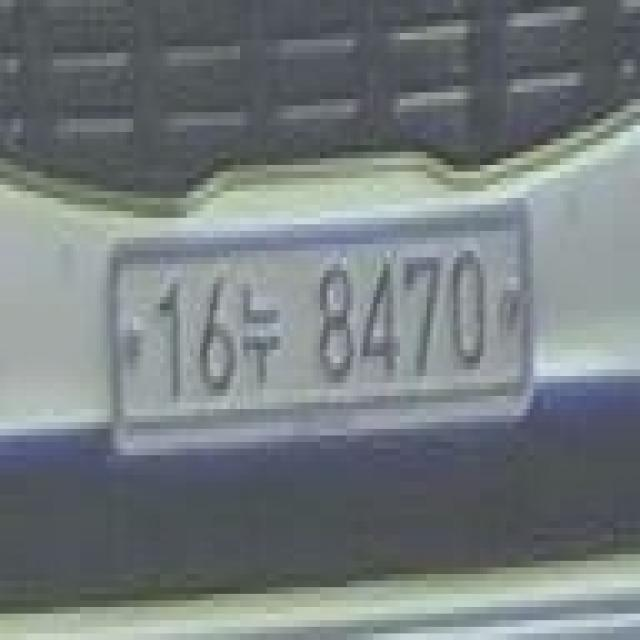0: (447, 238, 490, 390)
1: (150, 270, 193, 422)
4: (360, 251, 400, 396)
6: (193, 264, 240, 416)
7: (400, 237, 447, 396)
8: (310, 251, 360, 396)
license_plate: (100, 191, 537, 475)
nu: (237, 264, 290, 402)
